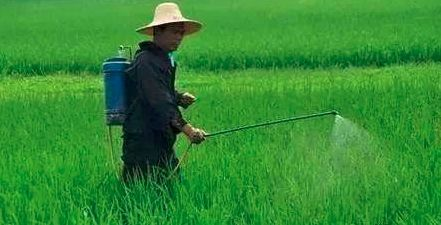berrl: (102, 55, 132, 125)
